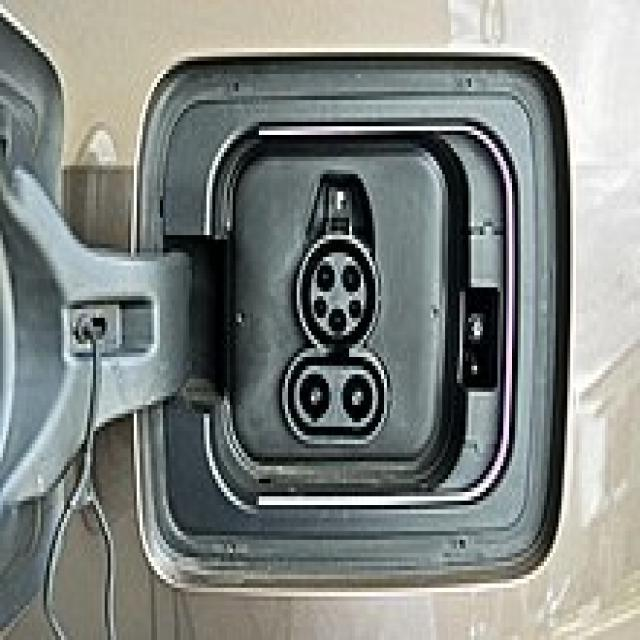CCS1: (253, 233, 403, 458)
